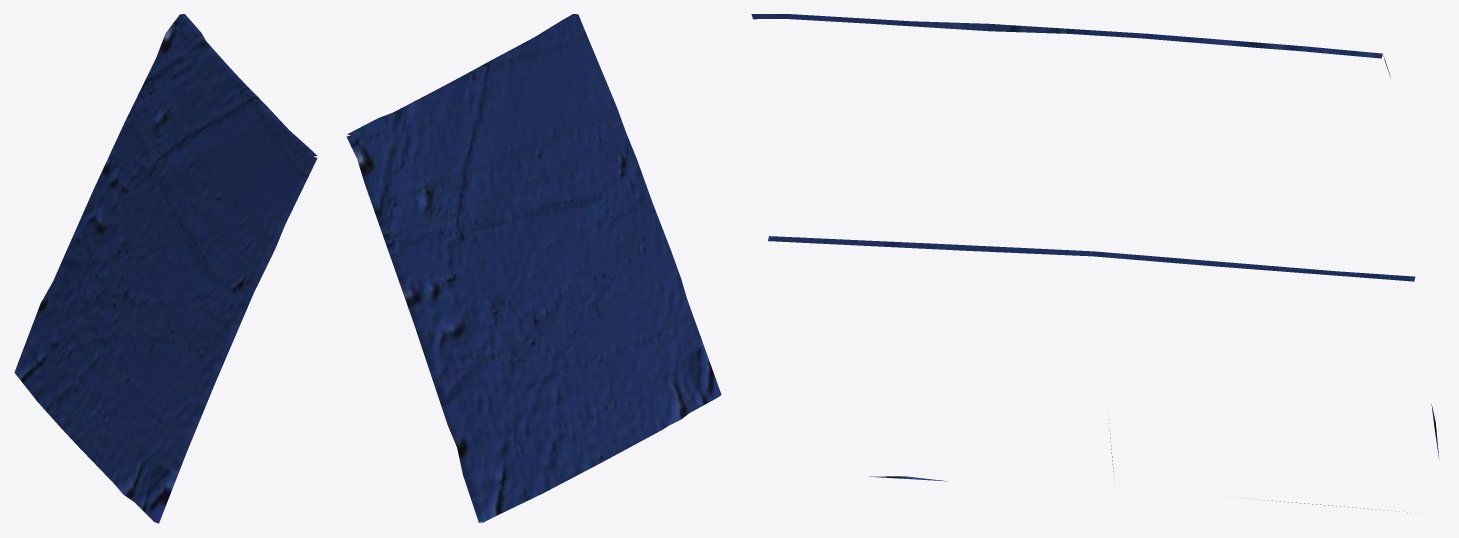
3 renders of one model, left to right at view 1: azimuth 30°, elevation 25°; view 2: azimuth 150°, elevation 25°; view 3: azimuth 270°, elevation 25°, orthographic. The views are drawn at different scales.
Size of the model in its own units: 355483 by 571415 by 603054.
Materials: 1 (1 with a texture image).
